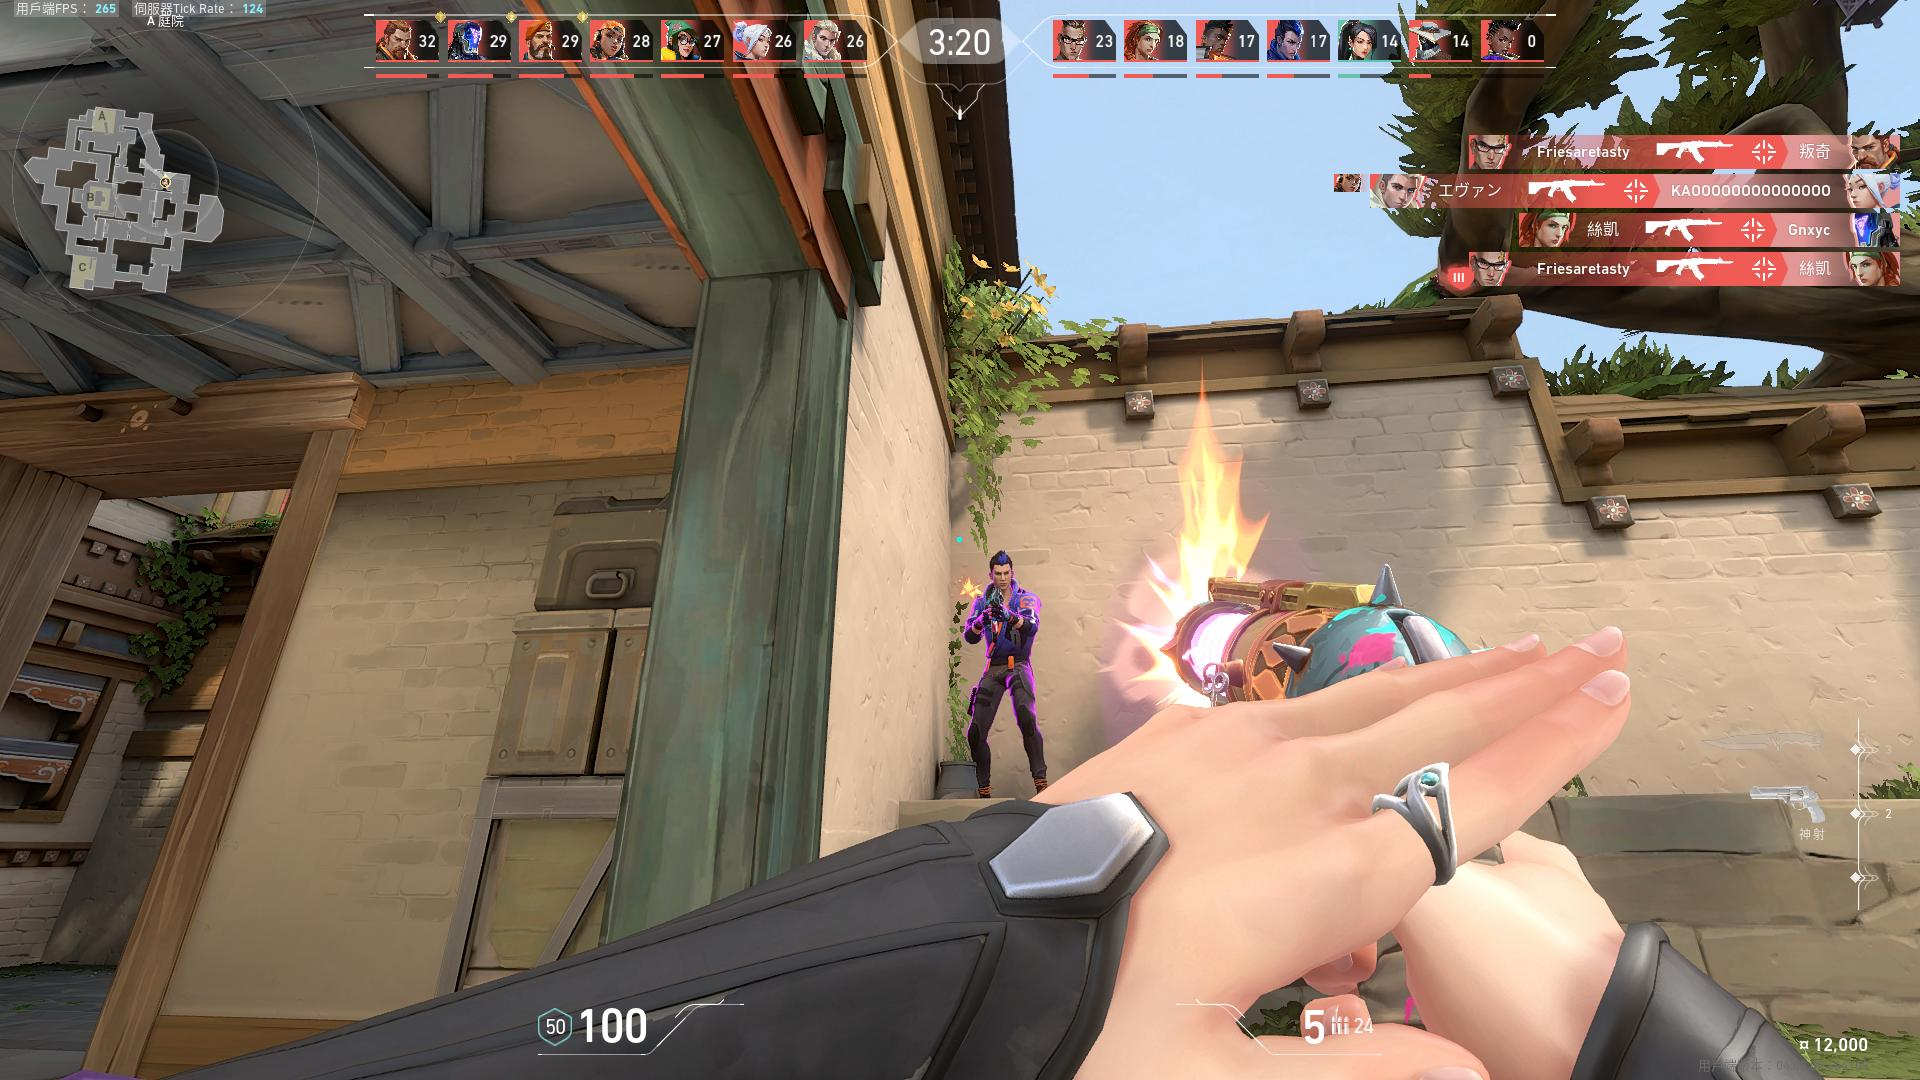enemyBody: (990, 595, 1021, 659)
enemyHead: (996, 563, 1010, 591)
